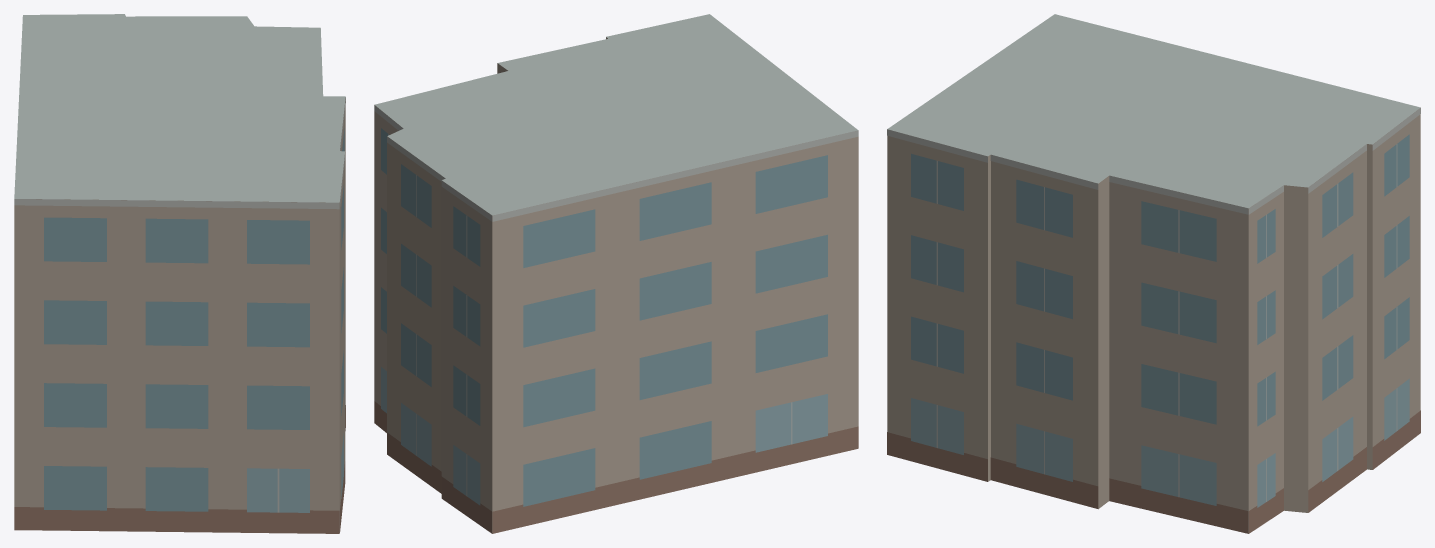
Rendered from survey-upis-32813652.glb.
3 renders of one model, left to right at view 1: azimuth 30°, elevation 25°; view 2: azimuth 150°, elevation 25°; view 3: azimuth 270°, elevation 25°, orthographic. The views are drawn at different scales.
Parts seen in each view (by area): view 1: survey-upis-32813652.tmp; view 2: survey-upis-32813652.tmp; view 3: survey-upis-32813652.tmp.
Part boxes in pixels (<box>): survey-upis-32813652.tmp: <box>14,14,345,533</box>; survey-upis-32813652.tmp: <box>374,14,858,533</box>; survey-upis-32813652.tmp: <box>887,14,1420,533</box>.
Bounding box in the file's own units: 15.76 × 12.3 × 18.28.
